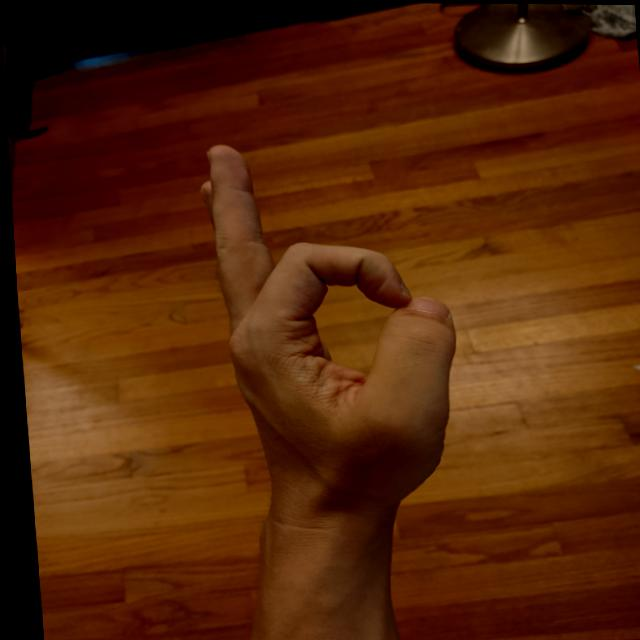F: (188, 136, 469, 518)
